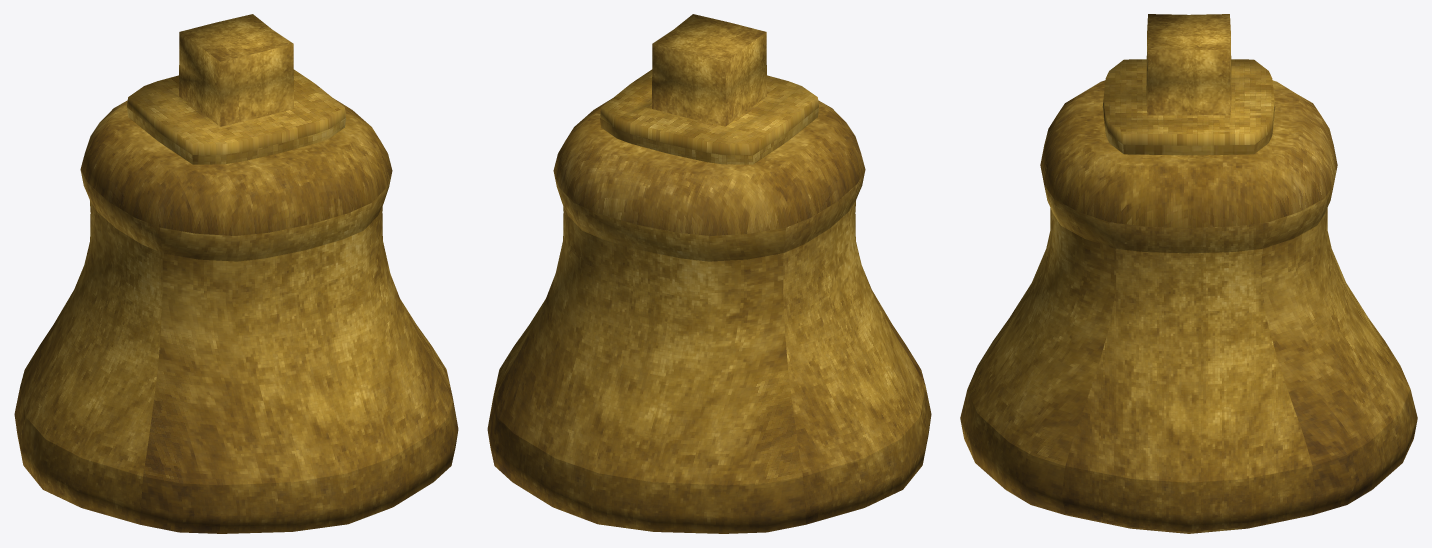
The model's file is Bell.fbx.
3 views of the same model, side by side, from view 1: azimuth 30°, elevation 25°; view 2: azimuth 150°, elevation 25°; view 3: azimuth 270°, elevation 25° (orthographic).
Parts seen in each view (by area): view 1: Sino; view 2: Sino; view 3: Sino.
Boxes of the visible parts, box(x1,y1,x2,y2) form: Sino: box(14, 14, 458, 533); Sino: box(487, 14, 931, 533); Sino: box(960, 14, 1417, 533).
Bounding box in the file's own units: 38.28 × 37.57 × 38.28.
Materials: 1 (1 with a texture image).
